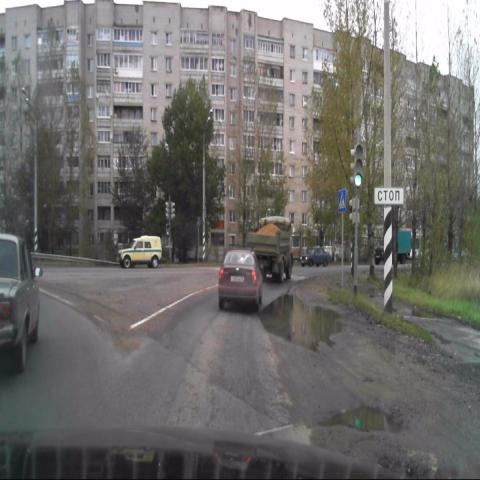6_16: (374, 188, 404, 204)
